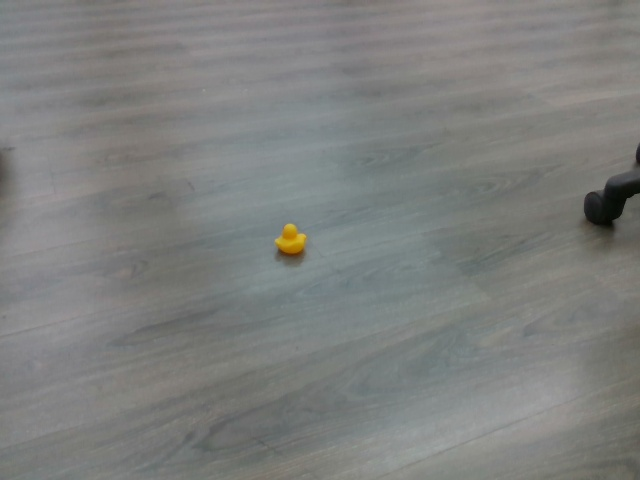duck: (272, 221, 311, 257)
